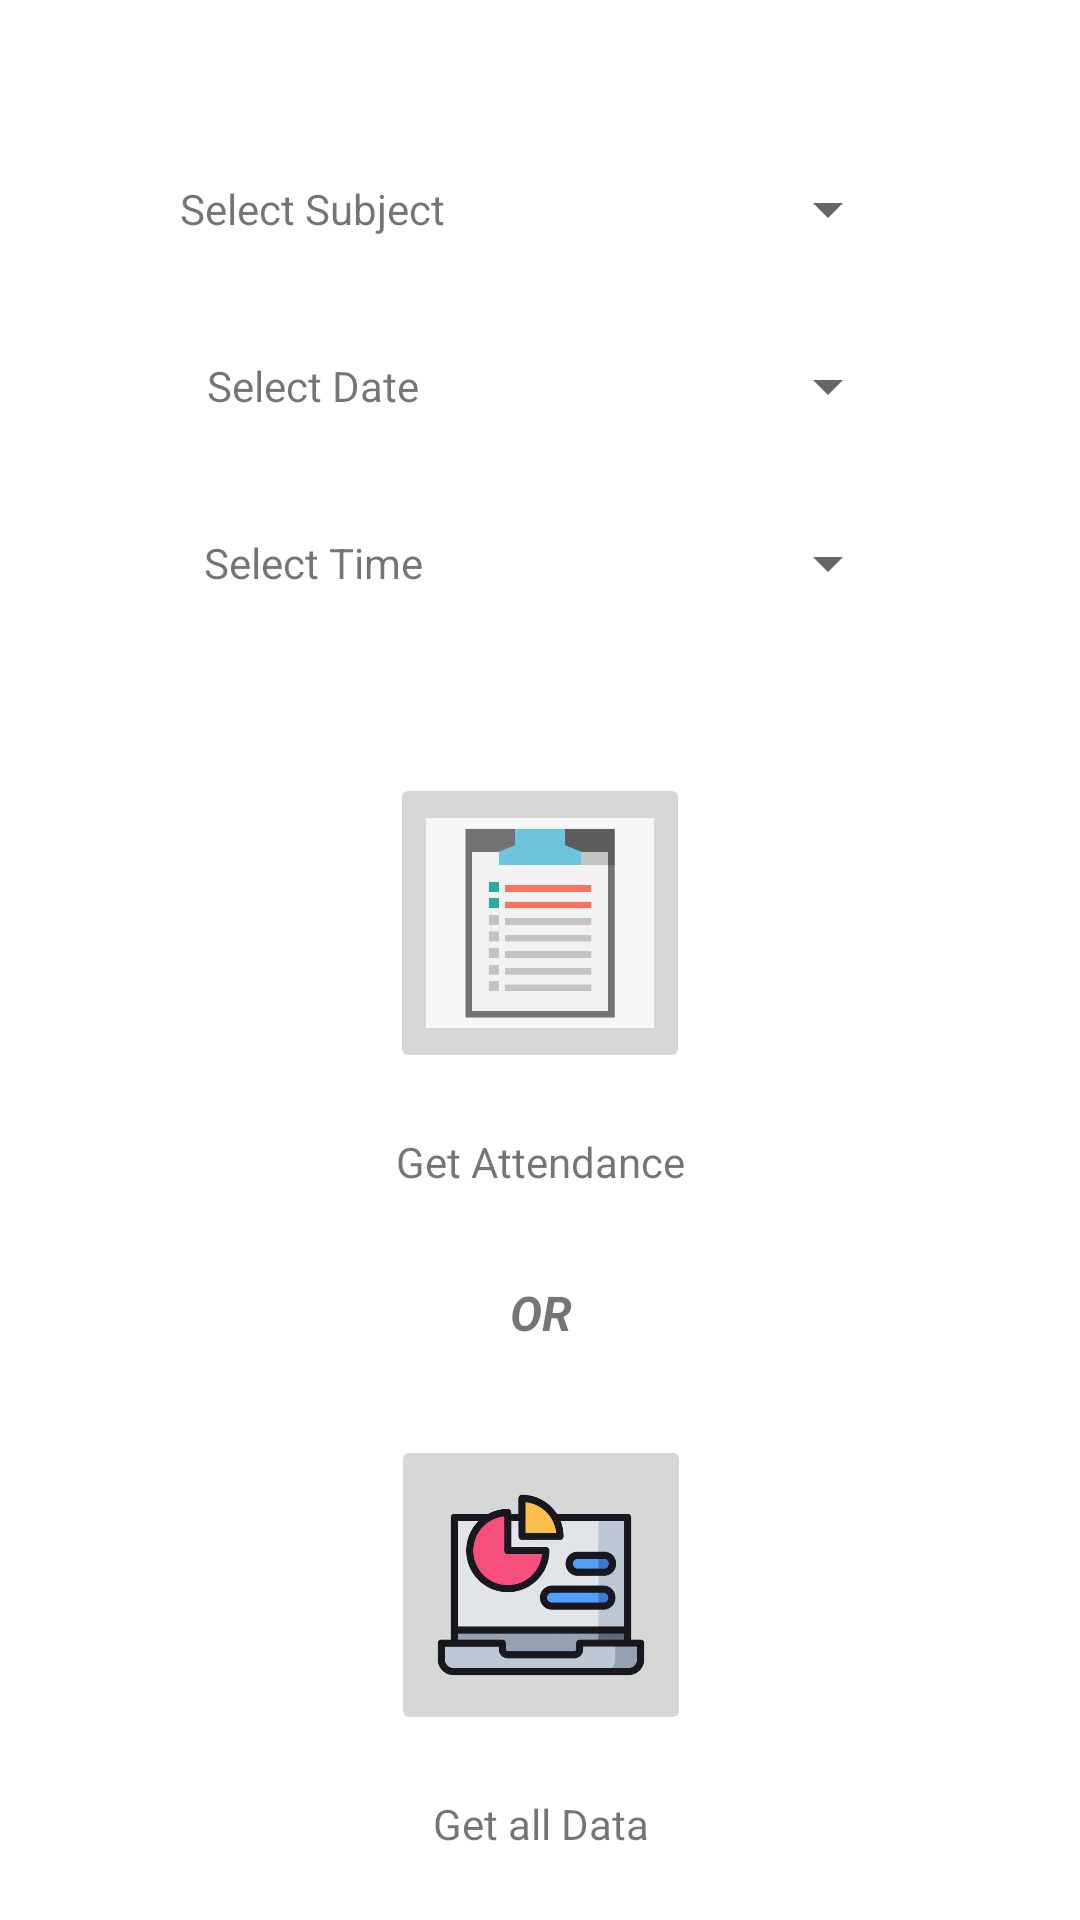

Named icons in this screenshot (1080*1920) and their bounding boxes, [left=x1, top=y1, right=x2, bottom=y2]:
list: [left=402, top=791, right=678, bottom=1055]
